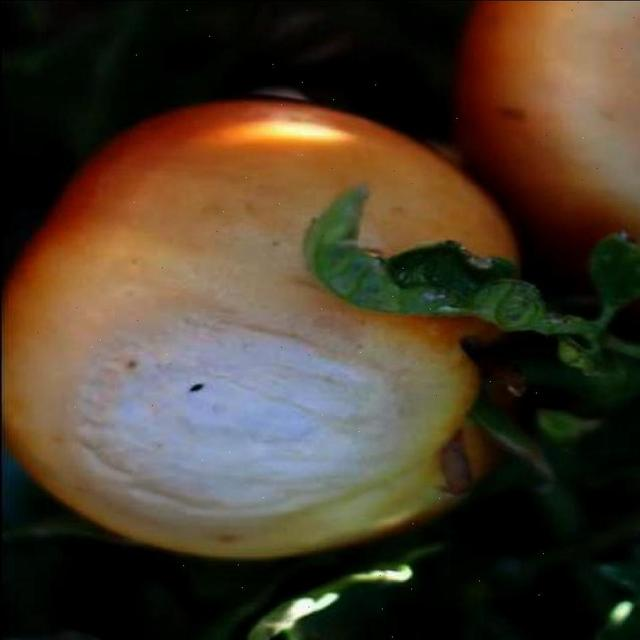Sunscald Fruit: (88, 98, 382, 262)
